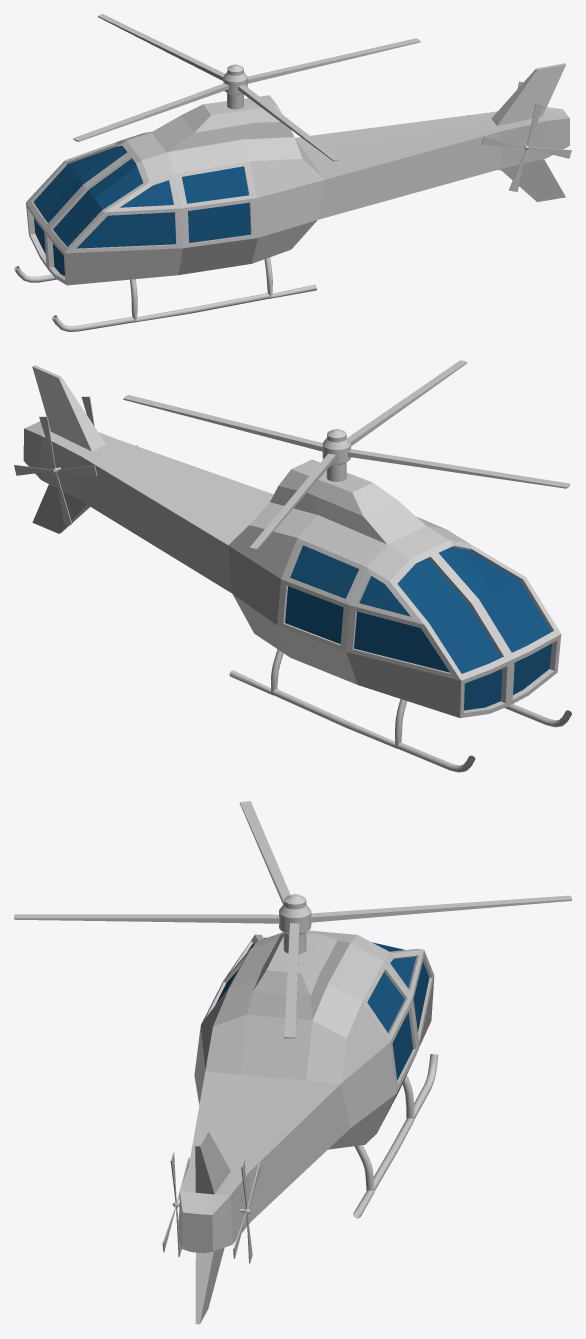
Rendered from helicopter_animation_000164.obj.
The picture shows the model from 3 angles, top to bottom: view 1: azimuth 30°, elevation 25°; view 2: azimuth 150°, elevation 25°; view 3: azimuth 270°, elevation 25°; orthographic projection. The views are drawn at different scales.
Visible parts, largest first — view 1: Helicopter.007_Cylinder.008, Helicopter.001_Cylinder.001, Helicopter.003_Cylinder.004; view 2: Helicopter.007_Cylinder.008, Helicopter.001_Cylinder.001, Helicopter.004_Cylinder.005; view 3: Helicopter.007_Cylinder.008, Helicopter.001_Cylinder.001, Helicopter.004_Cylinder.005.
Part boxes in pixels (<box>): Helicopter.007_Cylinder.008: <box>14,63,569,331</box>; Helicopter.001_Cylinder.001: <box>73,14,420,161</box>; Helicopter.003_Cylinder.004: <box>481,103,571,191</box>; Helicopter.007_Cylinder.008: <box>23,365,571,772</box>; Helicopter.001_Cylinder.001: <box>123,360,569,549</box>; Helicopter.004_Cylinder.005: <box>14,416,97,524</box>; Helicopter.007_Cylinder.008: <box>178,930,438,1324</box>; Helicopter.001_Cylinder.001: <box>14,801,571,1038</box>; Helicopter.004_Cylinder.005: <box>233,1158,260,1263</box>.
Size of the model in its own units: 7.53 by 3.2 by 5.56.
